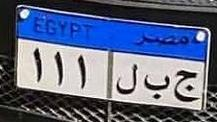1: (52, 50, 67, 86), (77, 55, 91, 93), (31, 47, 45, 85)
baa: (143, 72, 171, 101)
jeem: (172, 67, 201, 107)
laam: (115, 59, 138, 99)
